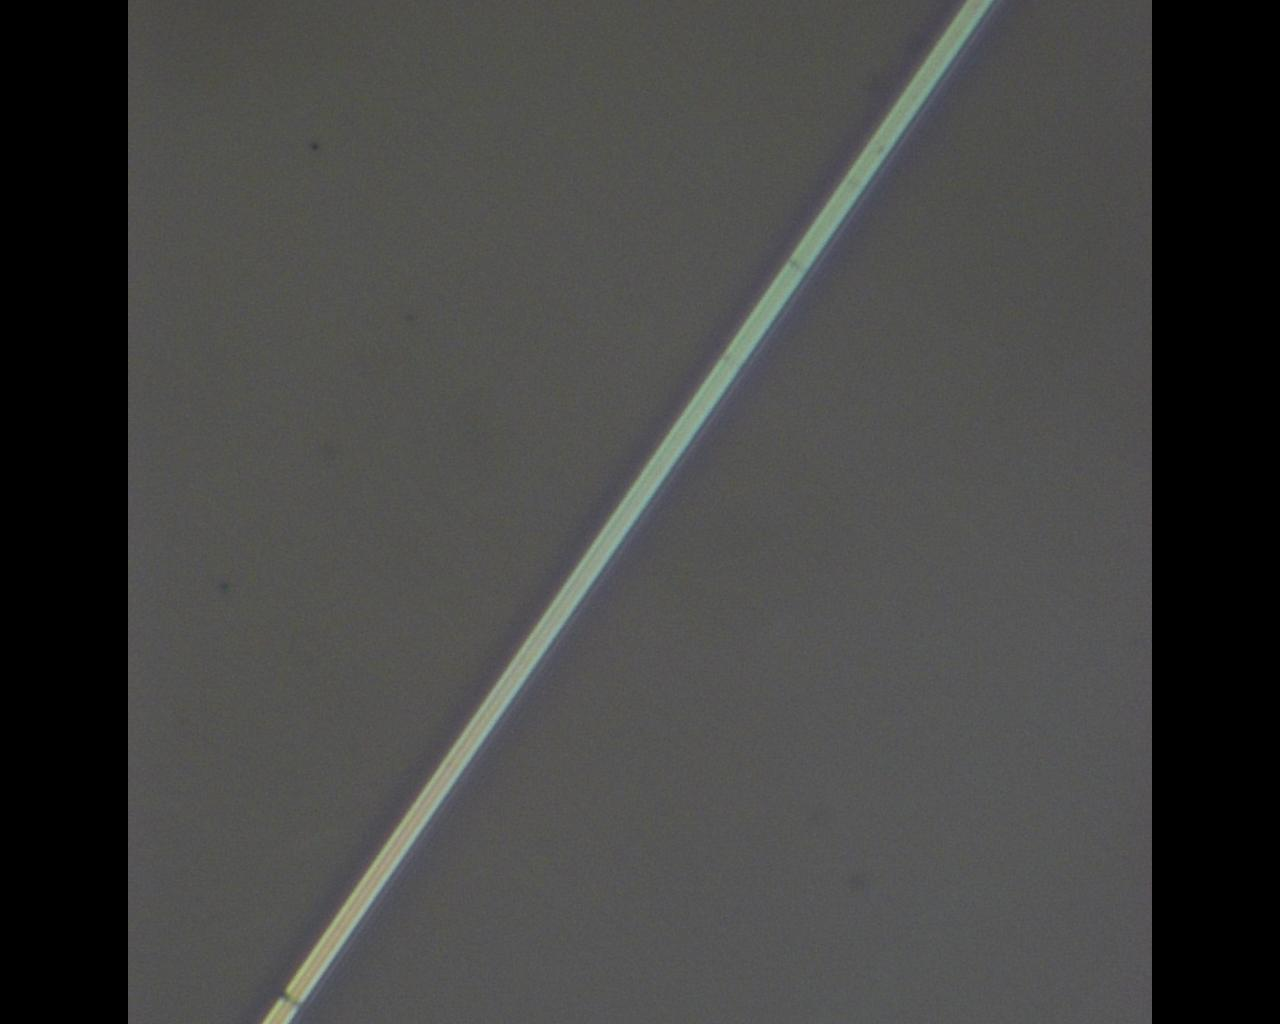fiber: (257, 0, 997, 1024)
